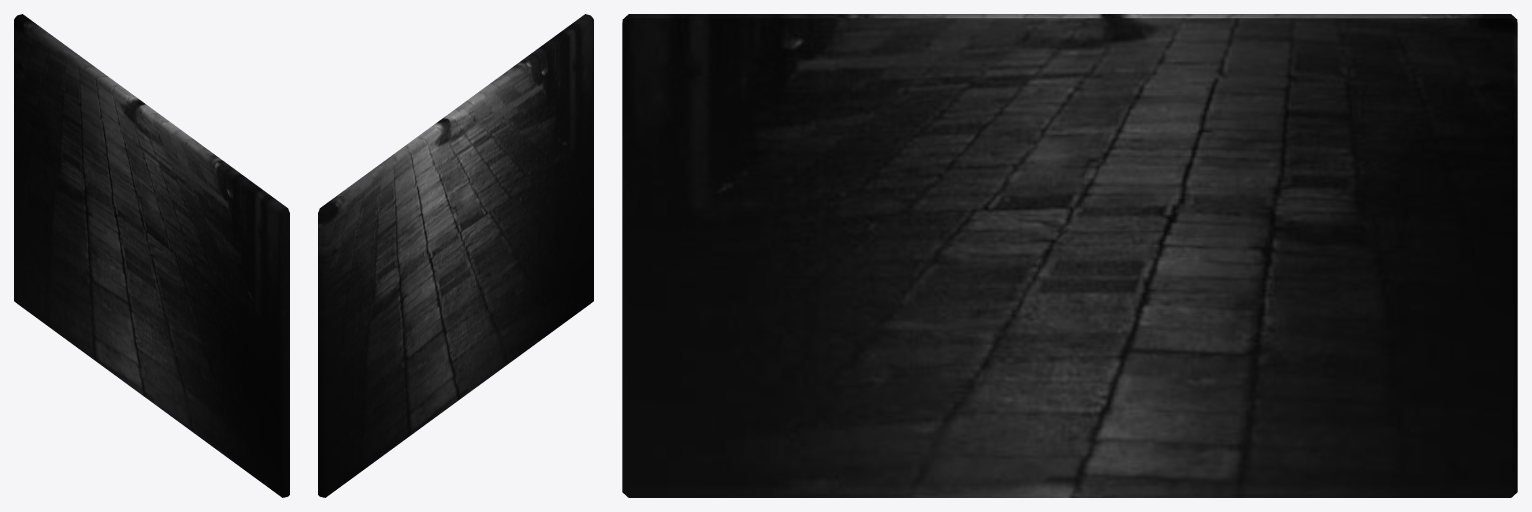
File: backing.obj
The picture shows the model from 3 angles, left to right: view 1: azimuth 30°, elevation 25°; view 2: azimuth 150°, elevation 25°; view 3: azimuth 270°, elevation 25°; orthographic projection. The views are drawn at different scales.
Parts seen in each view (by area): view 1: backing_Combined_Mesh_(root:_scene).002; view 2: backing_Combined_Mesh_(root:_scene).002; view 3: backing_Combined_Mesh_(root:_scene).002.
Part boxes in pixels (box(x1,y1,x2,y2)): backing_Combined_Mesh_(root:_scene).002: box(14, 14, 289, 497); backing_Combined_Mesh_(root:_scene).002: box(318, 14, 593, 497); backing_Combined_Mesh_(root:_scene).002: box(622, 14, 1517, 497).
Size of the model in its own units: 0.0289 by 0.9159 by 1.55.
1 material, 1 textured.
